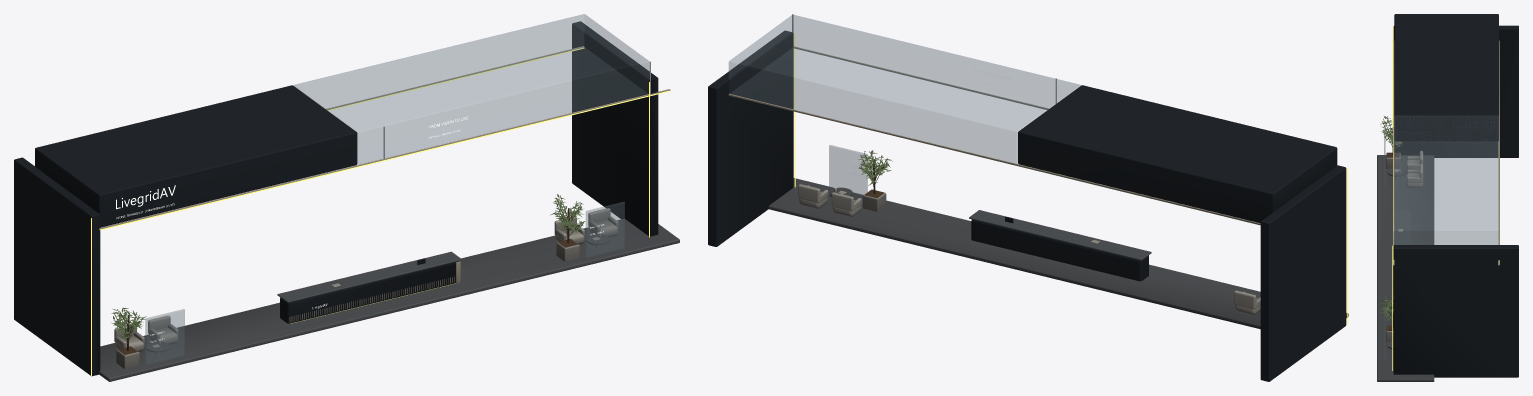
File: technical-wing.glb
3 views of the same model, side by side, from view 1: azimuth 30°, elevation 25°; view 2: azimuth 150°, elevation 25°; view 3: azimuth 270°, elevation 25° (orthographic). The views are drawn at different scales.
Visible parts, largest first — view 1: Graphite lacquer, Smoked architectural glass, Honed grey stone, Brushed champagne aluminium, Warm grey upholstery, 3000K integrated light, Olive leaf, Silver travertine, Smoked oak, Brand porcelain; view 2: Graphite lacquer, Smoked architectural glass, Honed grey stone, Brushed champagne aluminium, Warm grey upholstery, 3000K integrated light, Olive leaf; view 3: Graphite lacquer, Smoked architectural glass, Honed grey stone, Brushed champagne aluminium, Warm grey upholstery, 3000K integrated light, Olive leaf, Silver travertine, Smoked oak.
Part boxes in pixels (left/top/right/bottom): Graphite lacquer: left=14, top=21, right=658, bottom=376; Smoked architectural glass: left=145, top=14, right=648, bottom=364; Honed grey stone: left=99, top=218, right=679, bottom=381; Brushed champagne aluminium: left=99, top=46, right=670, bottom=355; Warm grey upholstery: left=114, top=208, right=618, bottom=351; 3000K integrated light: left=91, top=47, right=669, bottom=375; Olive leaf: left=111, top=194, right=585, bottom=340; Silver travertine: left=116, top=239, right=579, bottom=368; Smoked oak: left=113, top=195, right=584, bottom=354; Brand porcelain: left=116, top=116, right=603, bottom=342; Graphite lacquer: left=708, top=30, right=1346, bottom=381; Smoked architectural glass: left=729, top=15, right=1080, bottom=198; Honed grey stone: left=768, top=178, right=1348, bottom=329; Brushed champagne aluminium: left=728, top=46, right=1260, bottom=225; Warm grey upholstery: left=798, top=184, right=1260, bottom=315; 3000K integrated light: left=794, top=33, right=1348, bottom=324; Olive leaf: left=858, top=150, right=892, bottom=185; Graphite lacquer: left=1393, top=14, right=1518, bottom=377; Smoked architectural glass: left=1384, top=116, right=1498, bottom=358; Honed grey stone: left=1377, top=155, right=1434, bottom=381; Brushed champagne aluminium: left=1393, top=40, right=1499, bottom=265; Warm grey upholstery: left=1394, top=150, right=1423, bottom=231; 3000K integrated light: left=1392, top=26, right=1498, bottom=370; Olive leaf: left=1379, top=116, right=1402, bottom=320; Silver travertine: left=1386, top=153, right=1400, bottom=341; Smoked oak: left=1382, top=116, right=1399, bottom=330.
Size of the model in its own units: 30.95 by 9.15 by 8.15.
